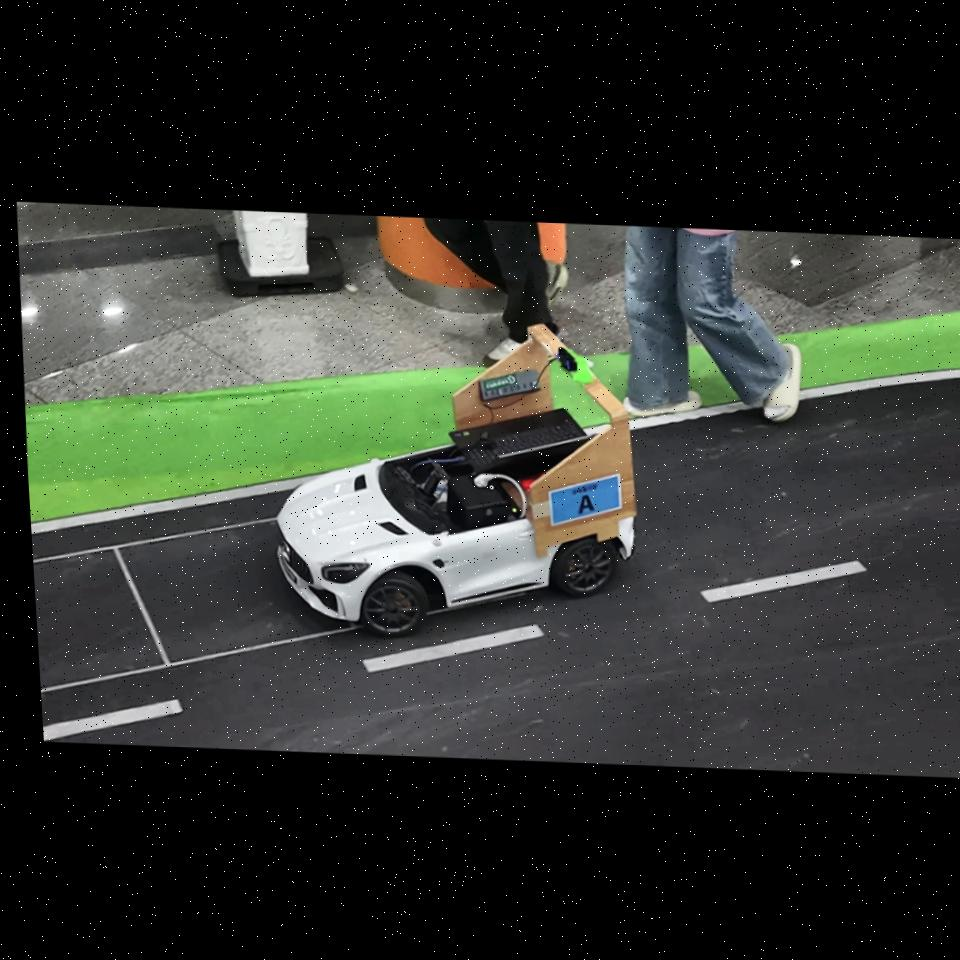broken_line: (362, 624, 545, 673), (699, 560, 868, 603), (43, 699, 184, 741)
